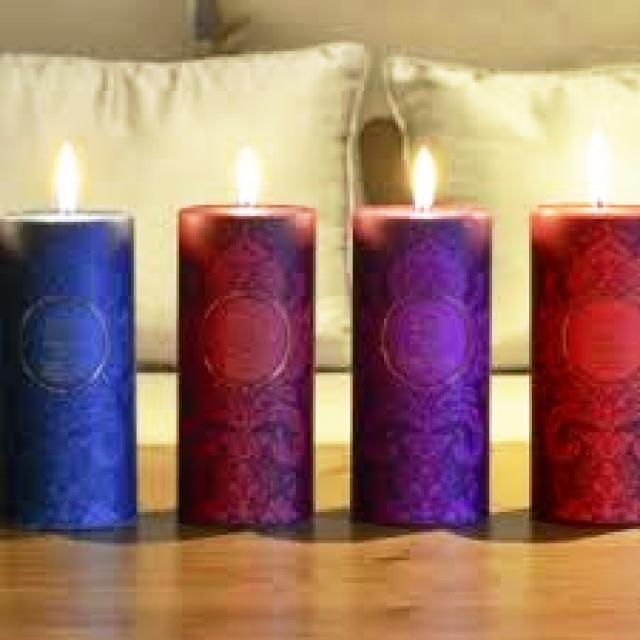api: (573, 129, 618, 211), (402, 143, 442, 217), (49, 140, 81, 223), (228, 138, 260, 212)
